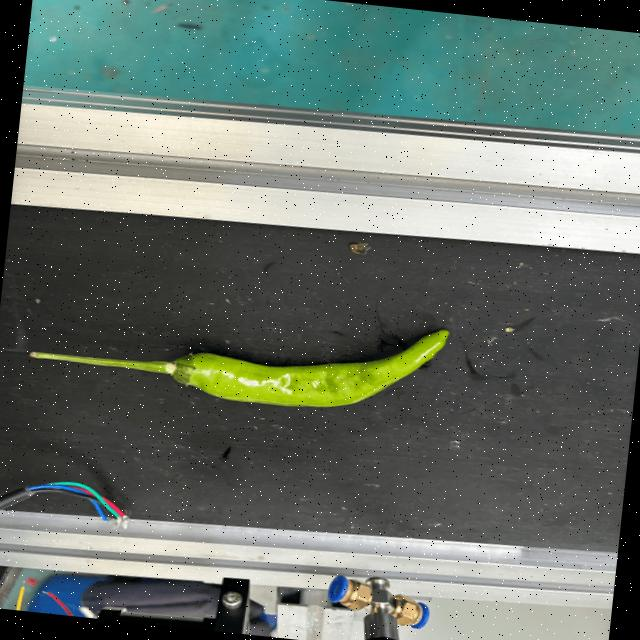chili: (171, 324, 451, 409)
